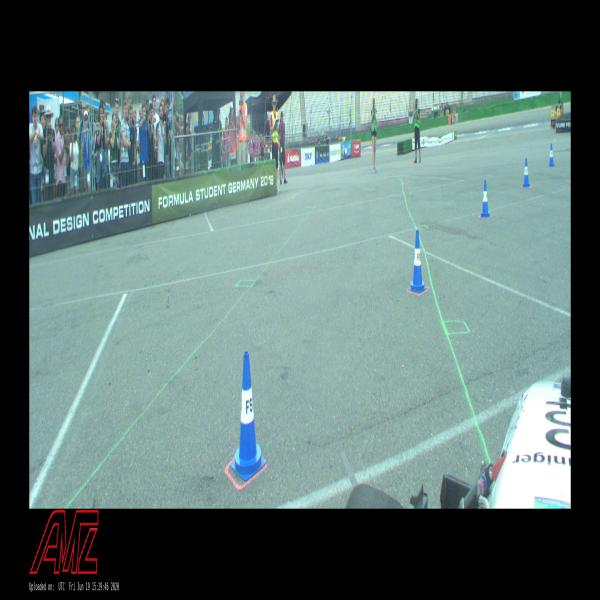blue_cone: (231, 352, 267, 481), (408, 230, 427, 294), (480, 180, 491, 217), (523, 158, 530, 188), (548, 144, 555, 167)
